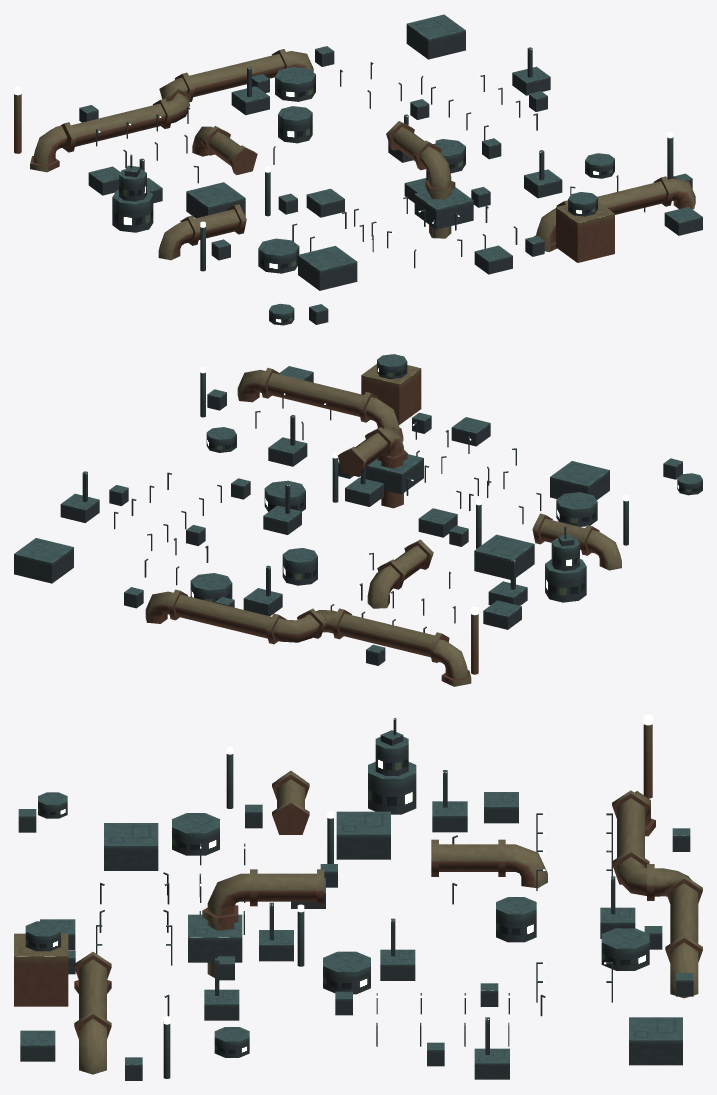
Rendered from GroundDeco_Combined.fbx.
3 renders of one model, top to bottom at view 1: azimuth 30°, elevation 25°; view 2: azimuth 150°, elevation 25°; view 3: azimuth 270°, elevation 25°, orthographic. The views are drawn at different scales.
Visible parts, largest first — view 1: RoofDeco_02__8_, Pipe_02, Pipe_02__1_, RoofDeco_02__7_, RoofDeco_02__6_, RoofDeco_02__4_, RoofDeco_02__5_, Pipe_02__5_, RoofDeco_03__5_, RoofDeco_03__3_, RoofDeco_03__2_, RoofDeco_03__7_ (+25 smaller); view 2: Pipe_02__1_, Pipe_02__5_, Pipe_02, RoofDeco_02__8_, RoofDeco_02__7_, RoofDeco_02__5_, RoofDeco_02__6_, RoofDeco_02__4_, RoofDeco_03__5_, RoofDeco_03__2_, RoofDeco_03__7_, Pipe_03__2_ (+27 smaller); view 3: RoofDeco_02__8_, RoofDeco_02__5_, RoofDeco_02__7_, RoofDeco_02__6_, RoofDeco_02__4_, RoofDeco_03__5_, Pipe_02__3_, Pipe_02__2_, RoofDeco_03__3_, RoofDeco_03__2_, RoofDeco_03__1_, Pipe_02__1_ (+24 smaller).
Part boxes in pixels (bbox=[...]): RoofDeco_02__8_: bbox=[556, 201, 614, 262]; Pipe_02: bbox=[60, 103, 165, 152]; Pipe_02__1_: bbox=[175, 54, 284, 102]; RoofDeco_02__7_: bbox=[406, 14, 465, 59]; RoofDeco_02__6_: bbox=[298, 246, 357, 290]; RoofDeco_02__4_: bbox=[414, 187, 473, 229]; RoofDeco_02__5_: bbox=[186, 182, 245, 218]; Pipe_02__5_: bbox=[556, 181, 666, 214]; RoofDeco_03__5_: bbox=[112, 190, 153, 232]; RoofDeco_03__3_: bbox=[275, 67, 315, 101]; RoofDeco_03__2_: bbox=[258, 238, 299, 273]; RoofDeco_03__7_: bbox=[278, 106, 312, 143]; Pipe_02__1_: bbox=[175, 594, 286, 644]; Pipe_02__5_: bbox=[267, 373, 378, 422]; Pipe_02: bbox=[339, 613, 449, 662]; RoofDeco_02__8_: bbox=[361, 364, 421, 424]; RoofDeco_02__7_: bbox=[14, 538, 73, 583]; RoofDeco_02__5_: bbox=[474, 534, 534, 579]; RoofDeco_02__6_: bbox=[550, 461, 609, 499]; RoofDeco_02__4_: bbox=[365, 454, 423, 494]; RoofDeco_03__5_: bbox=[545, 559, 586, 602]; RoofDeco_03__2_: bbox=[556, 492, 597, 526]; RoofDeco_03__7_: bbox=[282, 548, 317, 585]; Pipe_03__2_: bbox=[273, 608, 325, 642]; RoofDeco_02__8_: bbox=[14, 933, 68, 1006]; RoofDeco_02__5_: bbox=[336, 811, 390, 859]; RoofDeco_02__7_: bbox=[629, 1017, 682, 1065]; RoofDeco_02__6_: bbox=[104, 823, 158, 870]; RoofDeco_02__4_: bbox=[188, 914, 242, 962]; RoofDeco_03__5_: bbox=[368, 762, 416, 814]; Pipe_02__3_: bbox=[257, 869, 324, 906]; Pipe_02__2_: bbox=[431, 839, 498, 876]; RoofDeco_03__3_: bbox=[601, 928, 649, 970]; RoofDeco_03__2_: bbox=[172, 813, 219, 855]; RoofDeco_03__1_: bbox=[323, 951, 370, 994]; Pipe_02__1_: bbox=[665, 875, 702, 943].
Bounding box in the file's own units: 962 × 171 × 977.
Materials: 2 (2 with a texture image).
